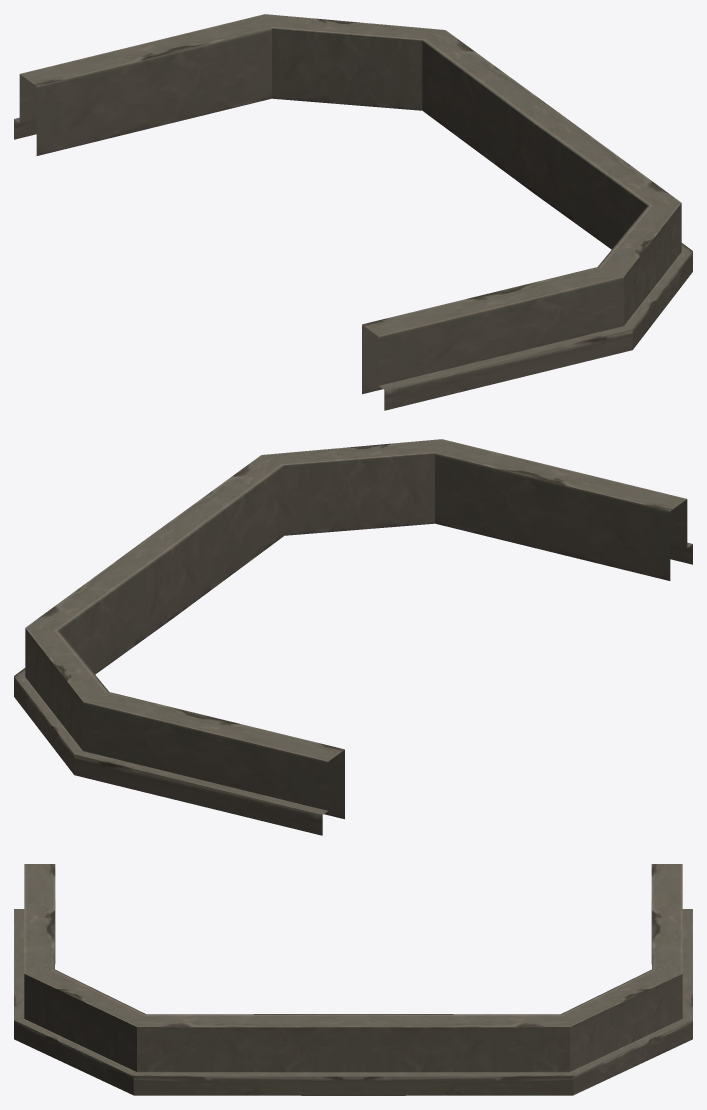
The model's file is Battle04_Cub_12.FBX.
The picture shows the model from 3 angles, top to bottom: view 1: azimuth 30°, elevation 25°; view 2: azimuth 150°, elevation 25°; view 3: azimuth 270°, elevation 25°; orthographic projection. The views are drawn at different scales.
Parts seen in each view (by area): view 1: Battle04_Cub_12; view 2: Battle04_Cub_12; view 3: Battle04_Cub_12.
Part boxes in pixels (x1=…): Battle04_Cub_12: x1=14, y1=14, x2=692, y2=410; Battle04_Cub_12: x1=14, y1=439, x2=692, y2=835; Battle04_Cub_12: x1=14, y1=864, x2=692, y2=1095.
Bounding box in the file's own units: 9.81 × 1.75 × 16.78.
